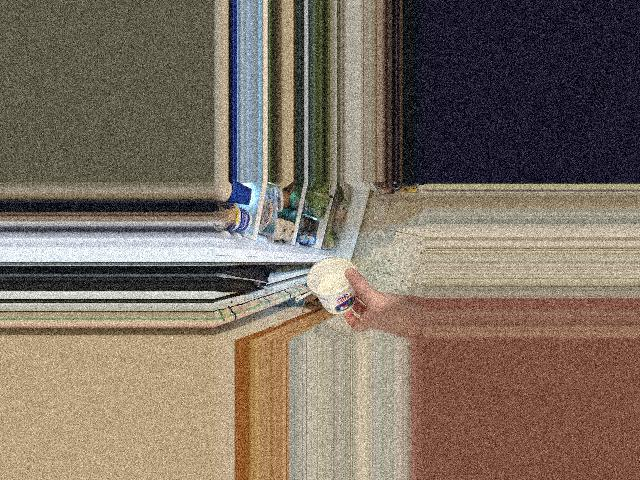cotage: (300, 257, 361, 316)
